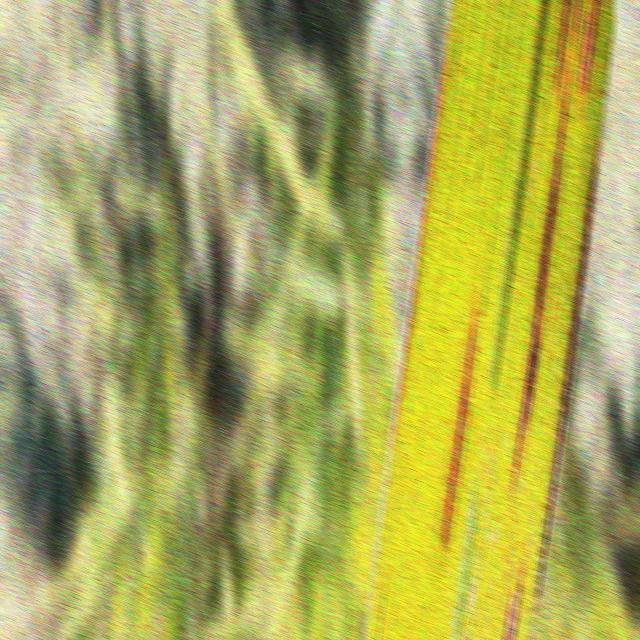NBS: (535, 149, 600, 613), (389, 19, 453, 450), (511, 94, 569, 494), (442, 294, 480, 542), (503, 563, 527, 640), (583, 2, 601, 94), (554, 2, 571, 96), (565, 2, 582, 86)
